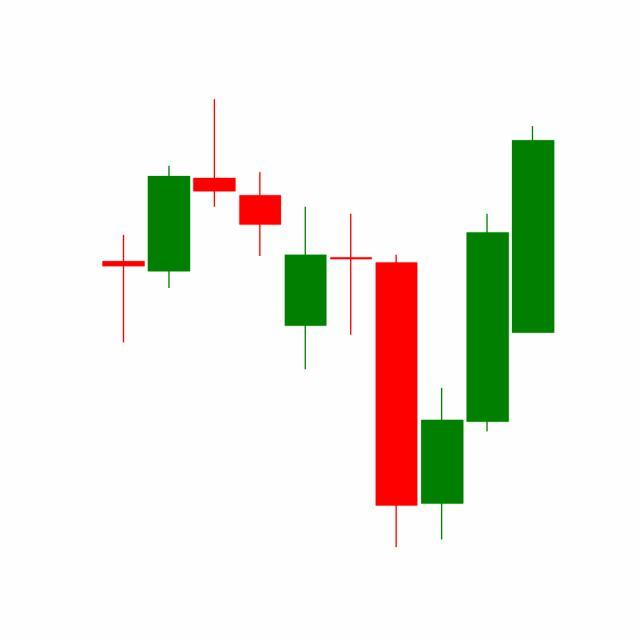Hikkake Pattern: (283, 203, 512, 549)
